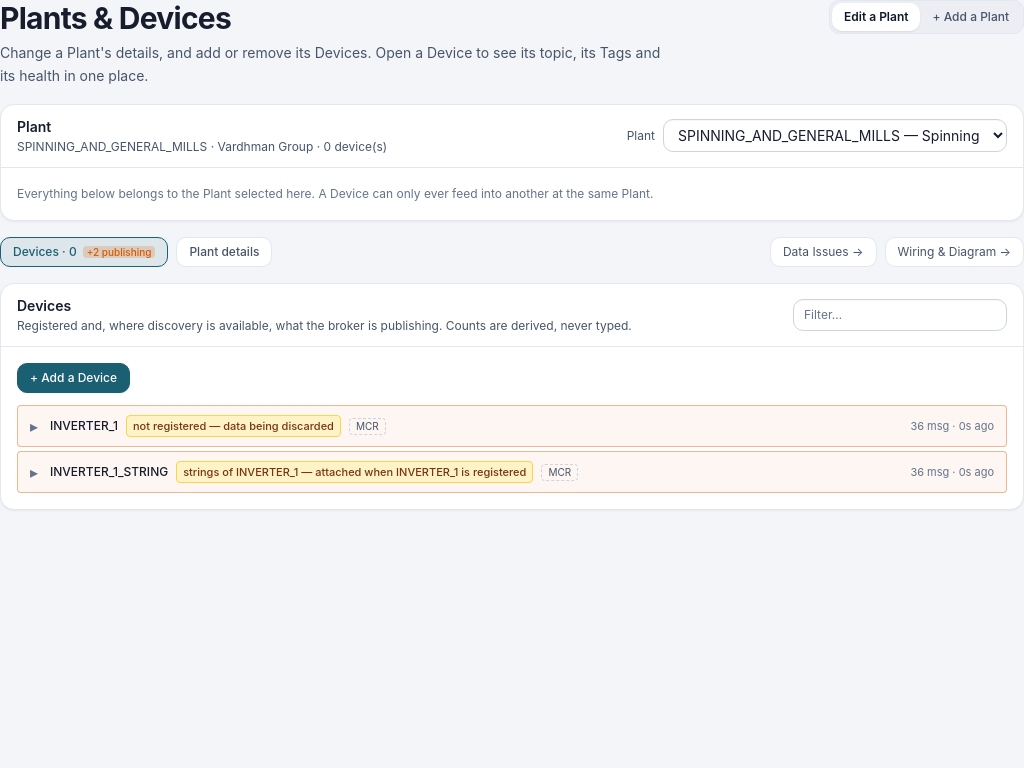
Plants & Devices: an Inverter and its string topic › never offers to register an Inverter on its string topic while it has its own
Click the button that starts with "INVERTER_1_STRING". click: click(512, 472)
box: [18, 452, 1006, 492]
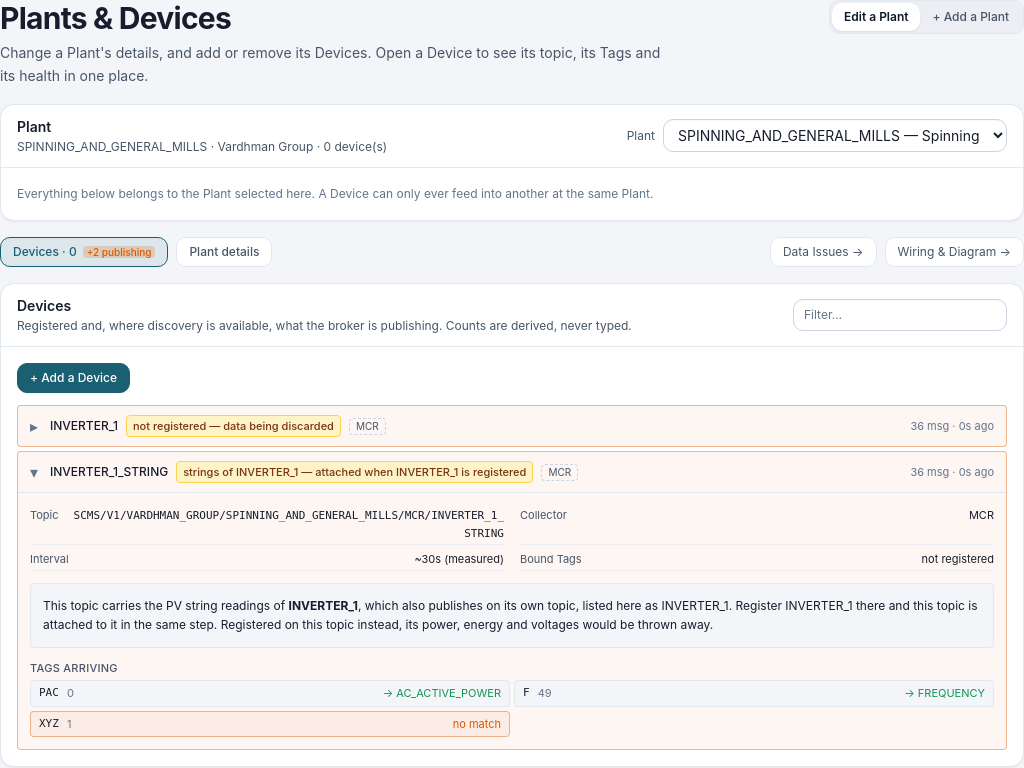
Expected: the list item "INVERTER_1_STRING" shows "strings of INVERTER_1 — attached when INVERTER_1 is registered", [17, 451, 1007, 750]
Expected: the list item "INVERTER_1_STRING" shows "Register INVERTER_1 there and this topic is attached to it in the same step", [17, 451, 1007, 750]
